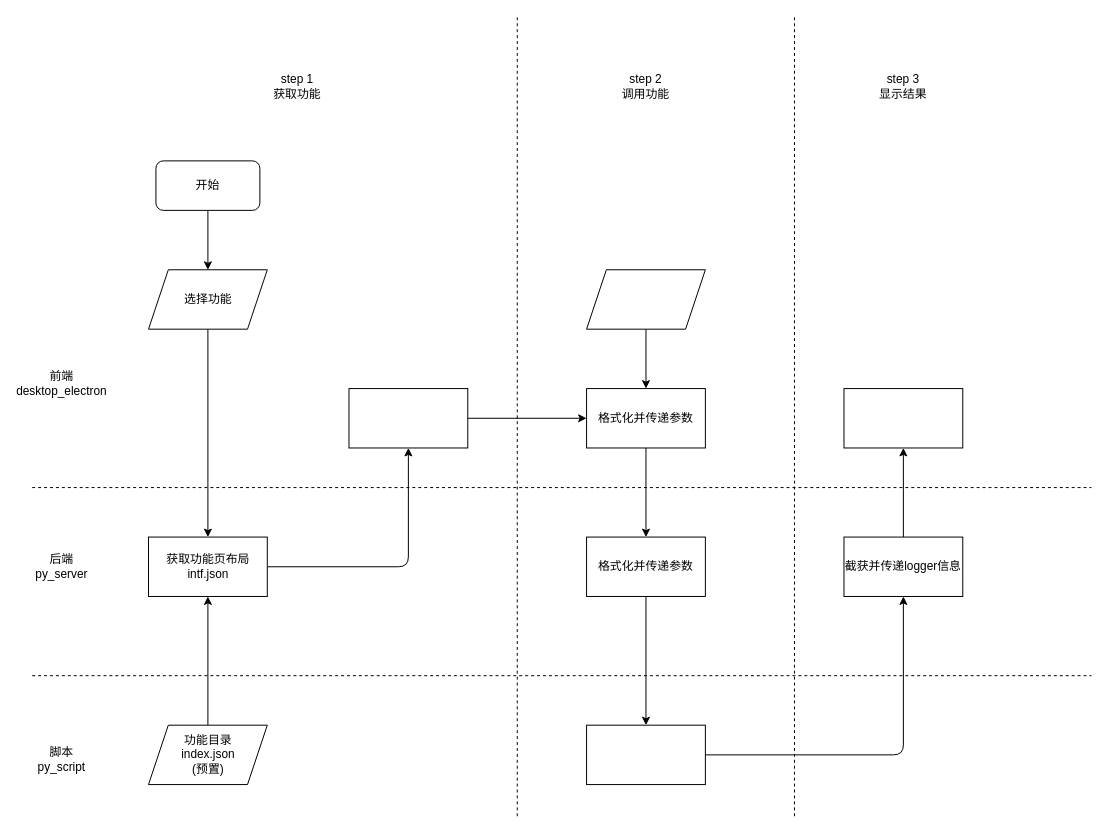
Image size: 1110x838. Some labels were removed from this diagram. Here are the shapes that lost their labels. From the top down, the centre of each, then its label:
At pixel 645 299: "输入功能参数".
At pixel 408 418: "根据intf.json 渲染页面".
At pixel 903 418: "渲染logger信息".
At pixel 645 754: "功能执行".
